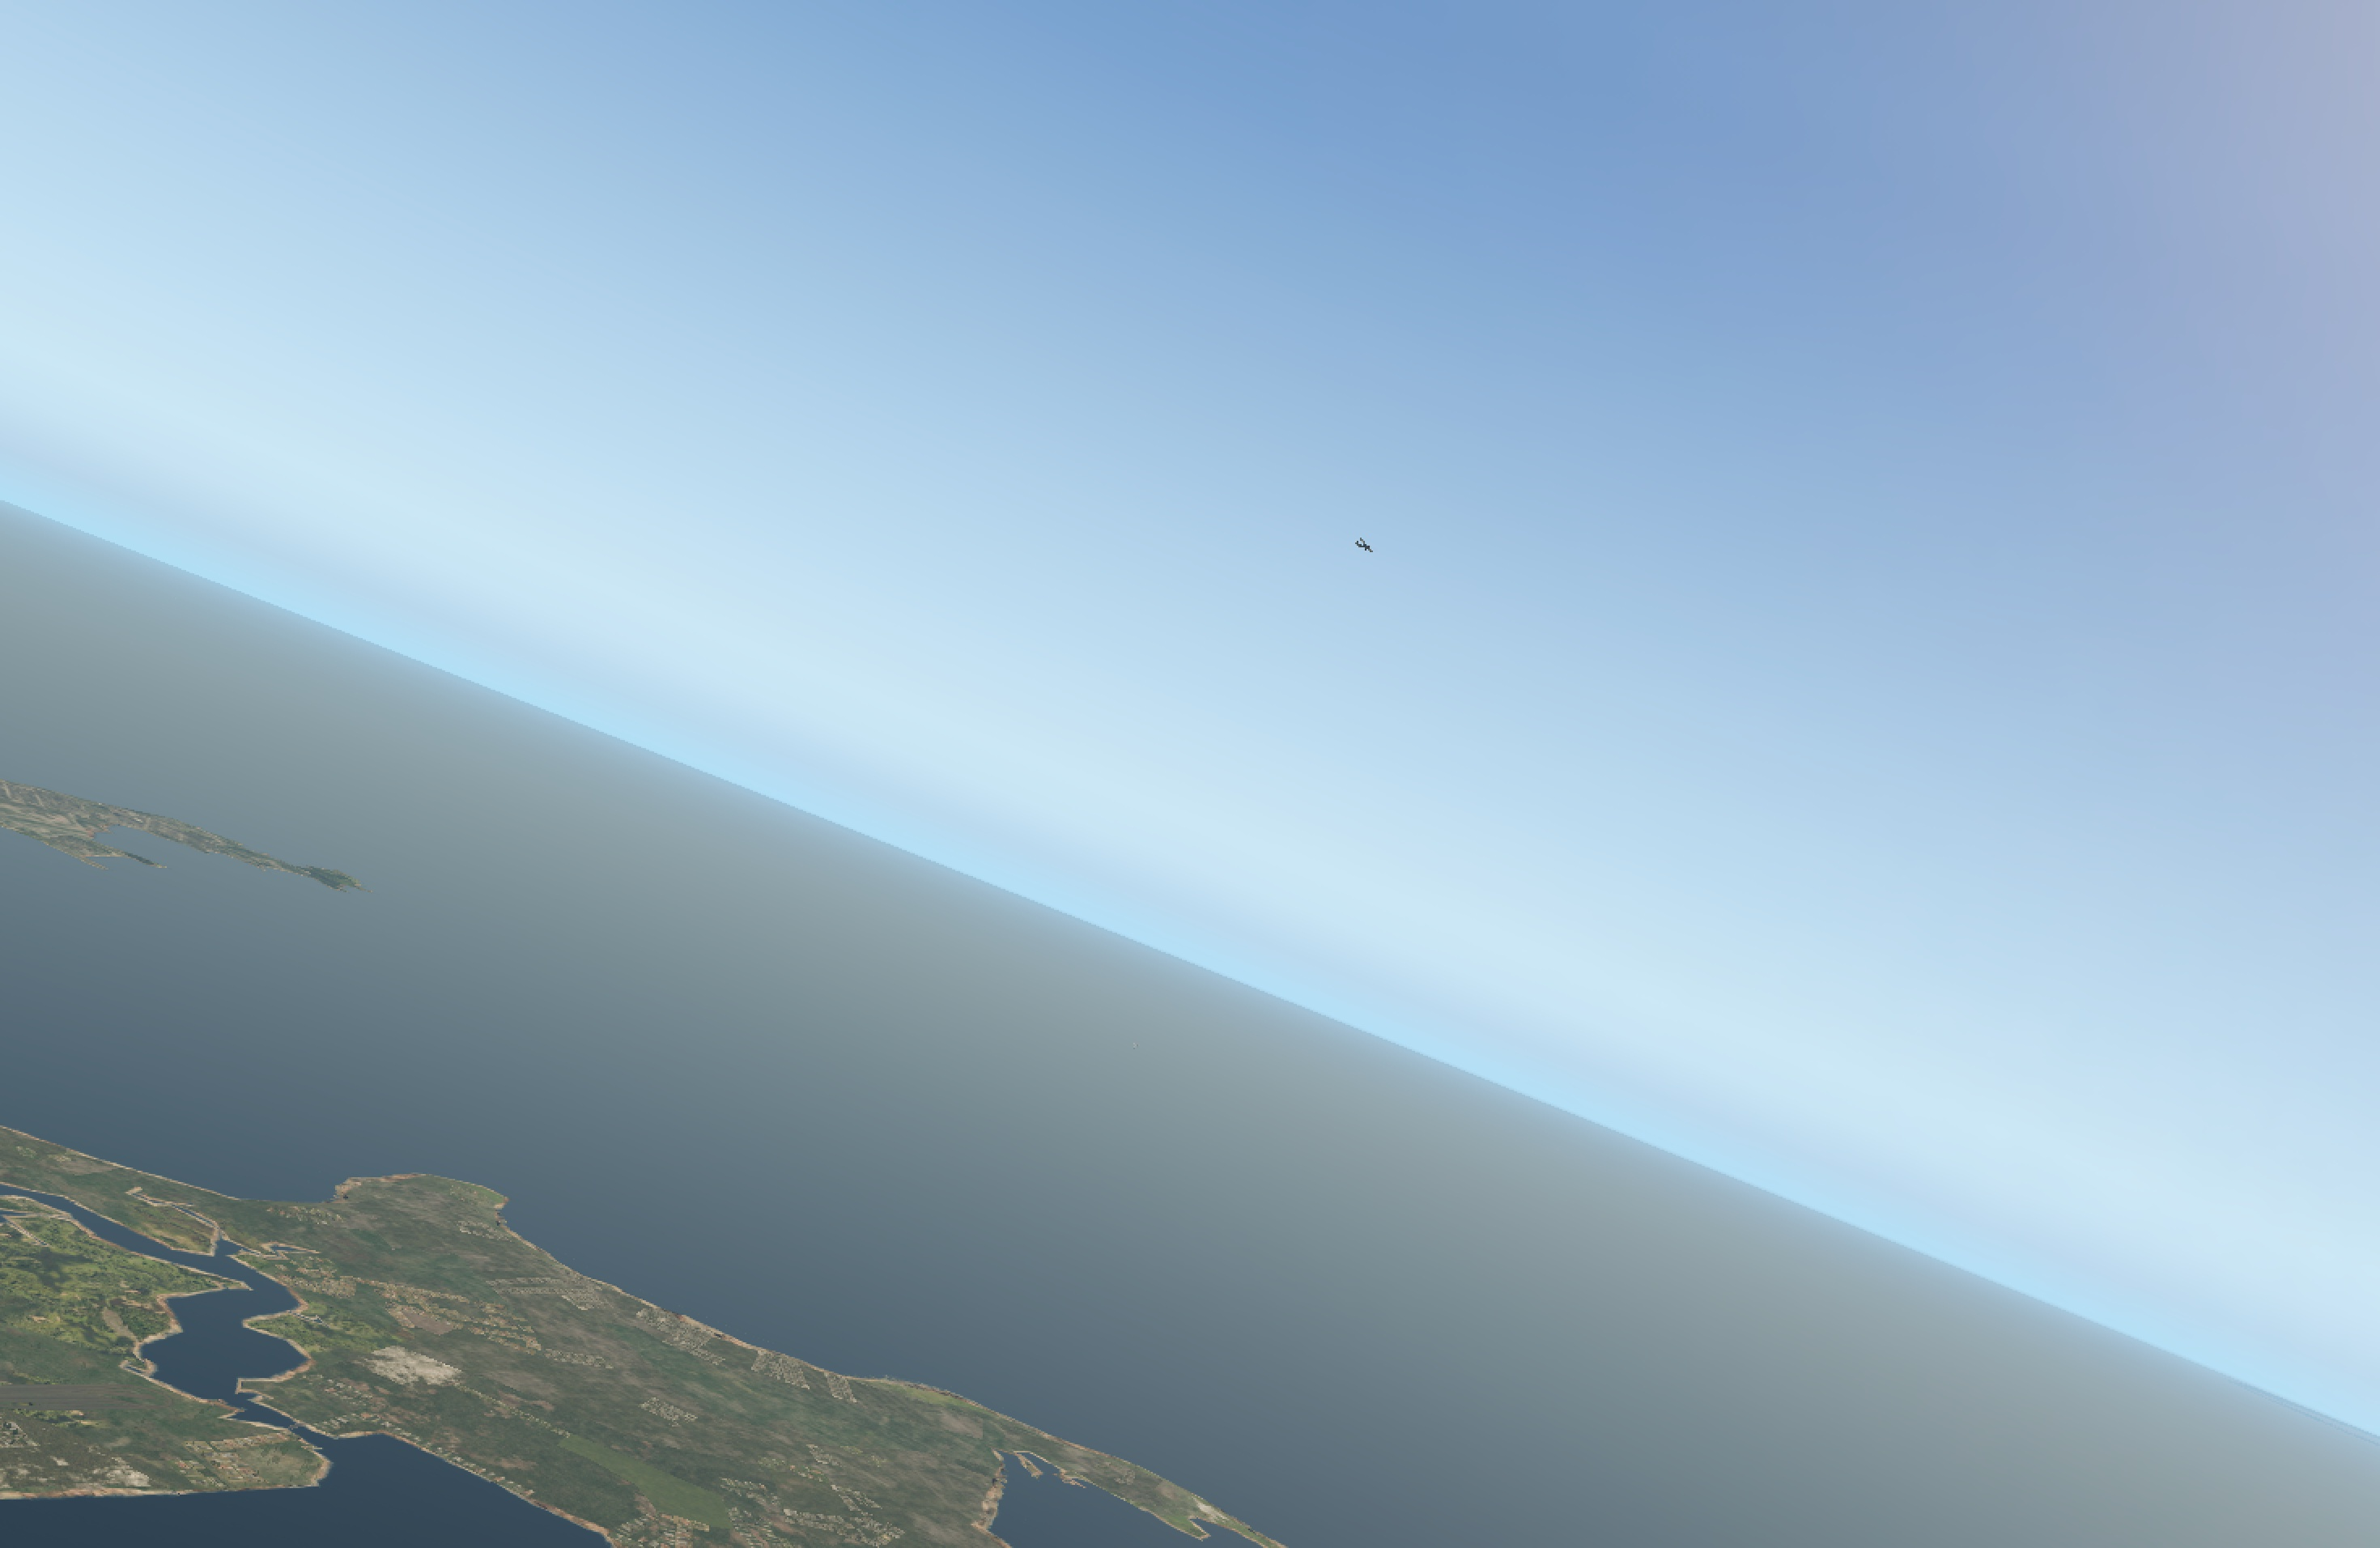aircraft: (1357, 543, 1376, 550)
